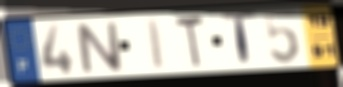4: (39, 22, 79, 77)
5: (263, 9, 303, 67)
I: (145, 17, 167, 72)
N: (72, 20, 126, 76)
T: (220, 10, 258, 70), (173, 14, 207, 72)
